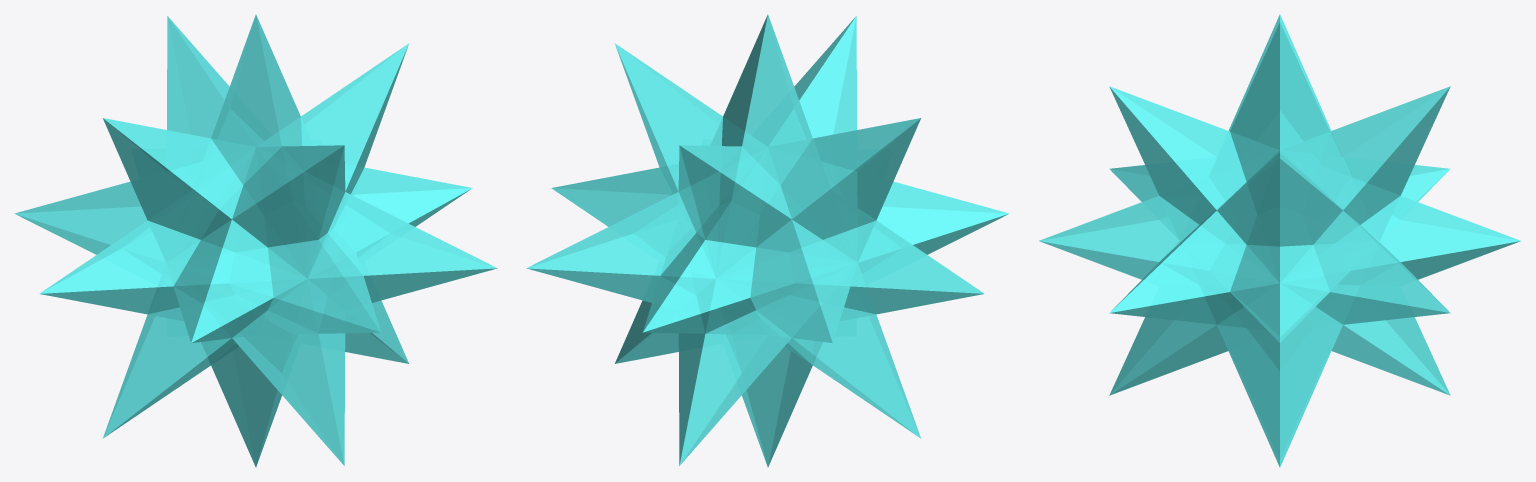
Rendered from GreatDeltoidalIcositetrahedron.obj.
The picture shows the model from 3 angles, left to right: view 1: azimuth 30°, elevation 25°; view 2: azimuth 150°, elevation 25°; view 3: azimuth 270°, elevation 25°; orthographic projection. The views are drawn at different scales.
Bounding box in the file's own units: 2.83 × 2.83 × 2.83.
